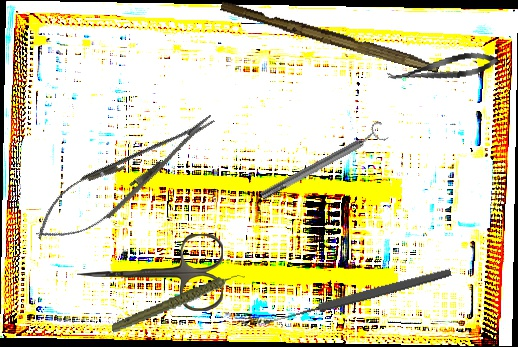Fixation Ring: (255, 119, 391, 206)
Handpiece: (106, 272, 251, 334)
Iris Scissors: (77, 234, 223, 311)
Micro Scissor: (385, 48, 501, 89)
Needle Holder: (23, 97, 228, 259)
Scalpel Handle: (218, 0, 442, 74)
Surgical Spoon: (262, 266, 453, 328)
